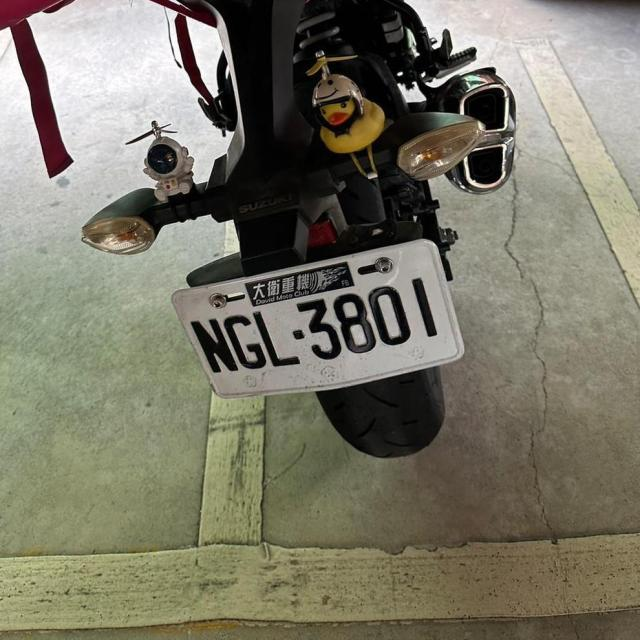W: (169, 235, 466, 412)
